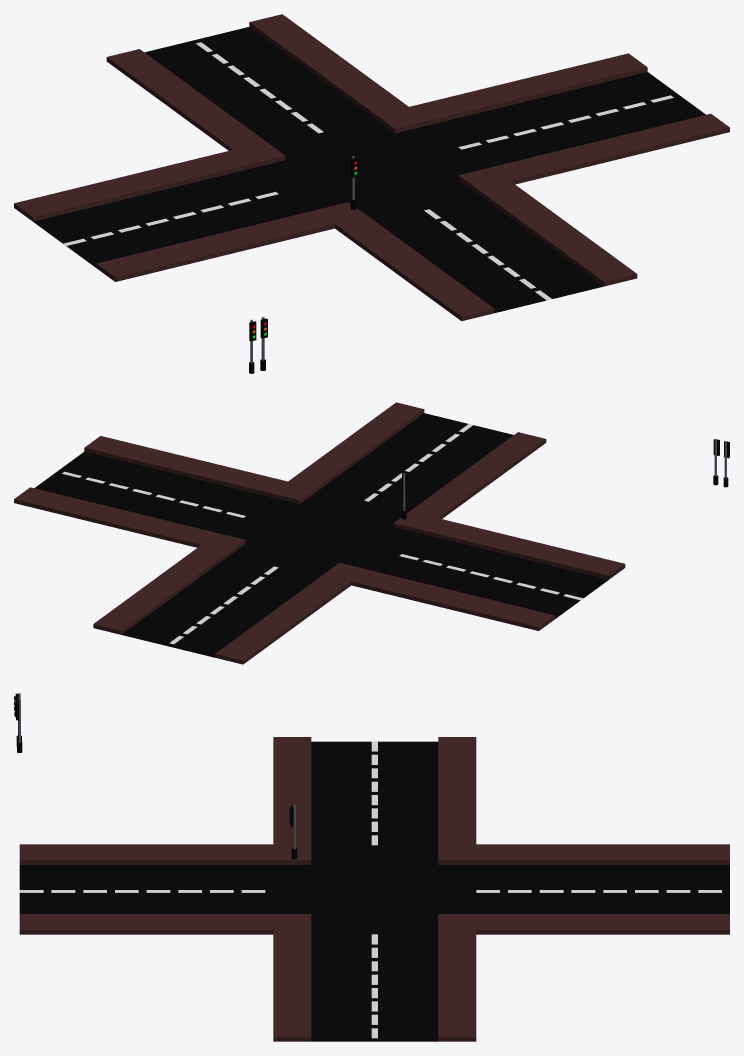
File: traffic_light.glb
The picture shows the model from 3 angles, top to bottom: view 1: azimuth 30°, elevation 25°; view 2: azimuth 150°, elevation 25°; view 3: azimuth 270°, elevation 25°; orthographic projection. The views are drawn at different scales.
Visible parts, largest first — view 1: street 1, street, street 2; view 2: street 1, street, street 2; view 3: street 1, street, street 2.
Part boxes in pixels (bbox=[...]): street 1: bbox=[33, 27, 705, 312]; street: bbox=[14, 14, 729, 321]; street 2: bbox=[63, 42, 673, 300]; street 1: bbox=[34, 413, 608, 657]; street: bbox=[14, 402, 625, 664]; street 2: bbox=[62, 424, 583, 644]; street 1: bbox=[19, 741, 729, 1041]; street: bbox=[19, 737, 729, 1041]; street 2: bbox=[19, 741, 721, 1038].
Size of the model in its own units: 28 by 2.49 by 28.23.
